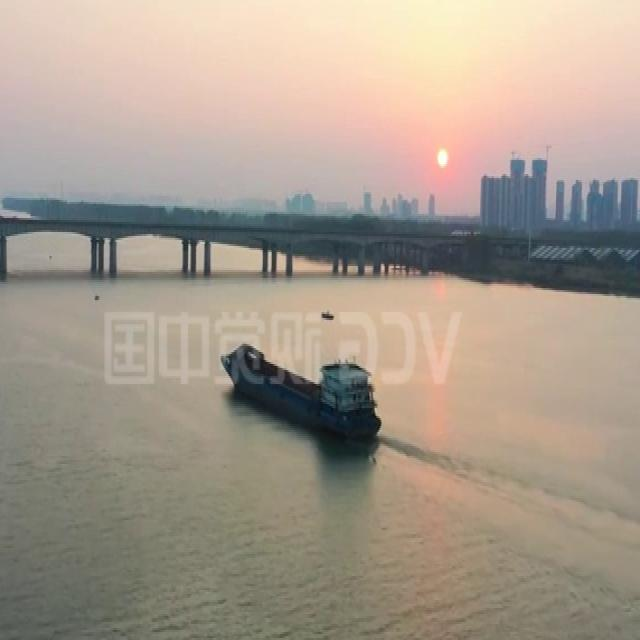cargoship: (226, 341, 370, 452)
